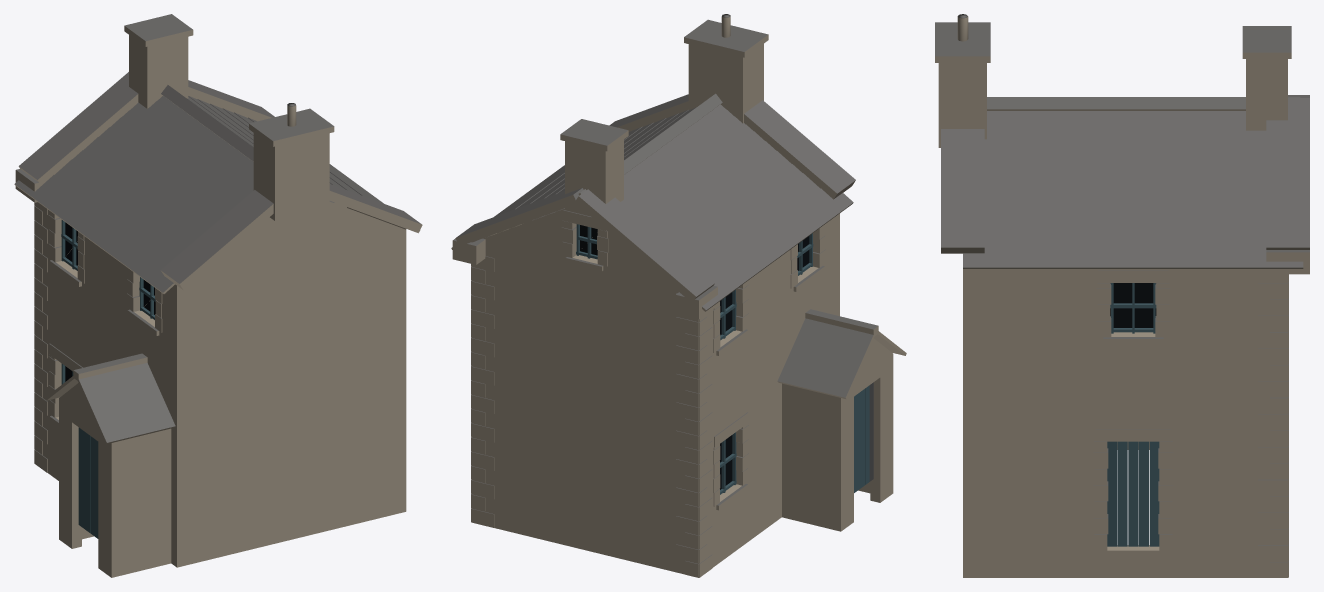
File: context.dales.house_10.glb
3 renders of one model, left to right at view 1: azimuth 30°, elevation 25°; view 2: azimuth 150°, elevation 25°; view 3: azimuth 270°, elevation 25°, orthographic. The views are drawn at different scales.
Parts seen in each view (by area): view 1: main__stone_a98, main__slate_666, main__paint_456, main__glass_dark; view 2: main__stone_a98, main__slate_666, main__paint_456, main__glass_dark; view 3: main__stone_a98, main__slate_666, main__paint_456, main__glass_dark, main__paint_355.
Boxes of the visible parts, x1=… form: main__stone_a98: x1=14, y1=26, x2=422, y2=577; main__slate_666: x1=14, y1=14, x2=421, y2=459; main__paint_456: x1=61, y1=220, x2=155, y2=538; main__glass_dark: x1=65, y1=222, x2=155, y2=381; main__stone_a98: x1=451, y1=16, x2=906, y2=577; main__slate_666: x1=452, y1=14, x2=878, y2=564; main__paint_456: x1=576, y1=224, x2=869, y2=494; main__glass_dark: x1=580, y1=225, x2=809, y2=489; main__stone_a98: x1=935, y1=16, x2=1309, y2=577; main__slate_666: x1=935, y1=14, x2=1309, y2=562; main__paint_456: x1=1110, y1=283, x2=1159, y2=546; main__glass_dark: x1=1110, y1=283, x2=1156, y2=327; main__paint_355: x1=1107, y1=441, x2=1116, y2=546.
Size of the model in its own units: 6.83 by 9.1 by 6.21.
